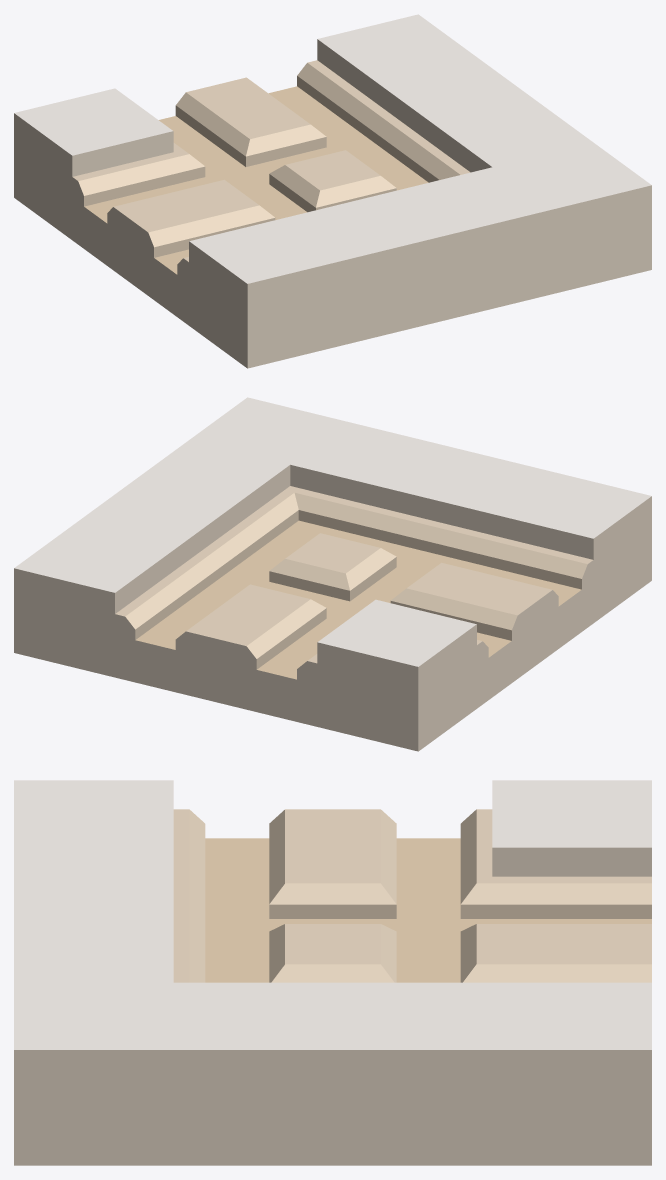
File: Puzzle_Track_Standard_Corner.glb
3 renders of one model, top to bottom at view 1: azimuth 30°, elevation 25°; view 2: azimuth 150°, elevation 25°; view 3: azimuth 270°, elevation 25°, orthographic. The views are drawn at different scales.
Parts seen in each view (by area): view 1: Puzzle_Track_Standard_Corner; view 2: Puzzle_Track_Standard_Corner; view 3: Puzzle_Track_Standard_Corner.
Boxes of the visible parts, box(x1,y1,x2,y2) form: Puzzle_Track_Standard_Corner: box(14, 14, 651, 368); Puzzle_Track_Standard_Corner: box(14, 397, 651, 751); Puzzle_Track_Standard_Corner: box(14, 780, 651, 1165).
Size of the model in its own units: 1 by 0.2 by 1.
